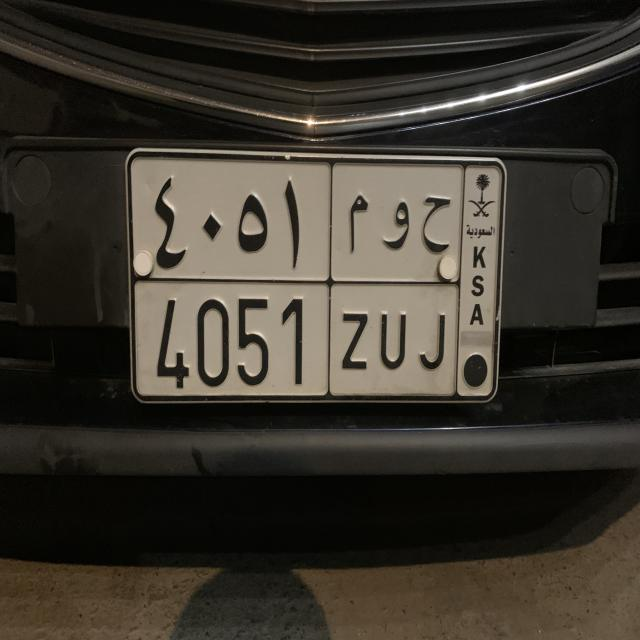license_plate: (122, 142, 510, 411)
